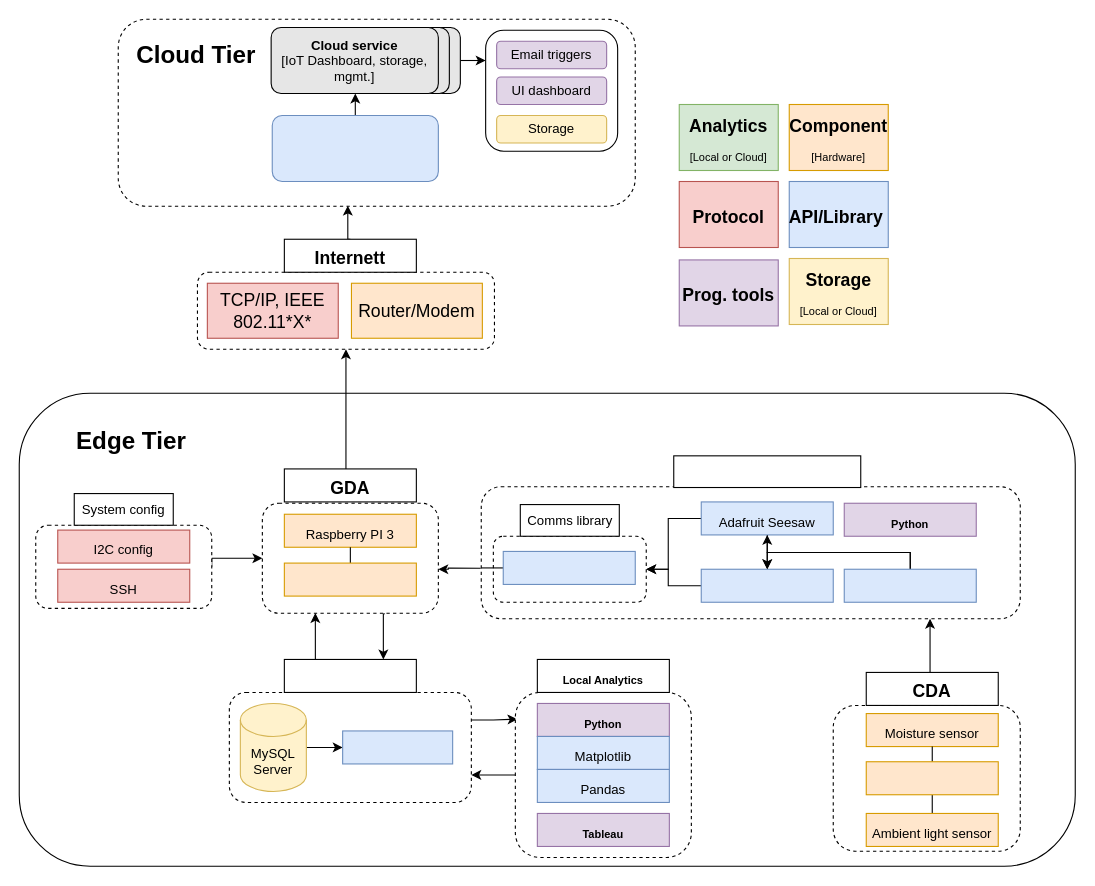
Image size: 1095x886. Some labels were removed from this diagram. Here are the shapes that lost their labels. From the top down, the centre of each, then its label:
At [354,148]: "InitialState IoT infrastructure and API's".
At [767,471]: "Communications management".
At [349,579]: "Raspberry Pi Zero".
At [568,567]: "ISStreamer".
At [766,585]: "Adafruit BH1750".
At [909,585]: "Busio".
At [349,675]: "Local Storage".
At [397,747]: "SQL Connector".
At [931,778]: "Temperature sensor".
